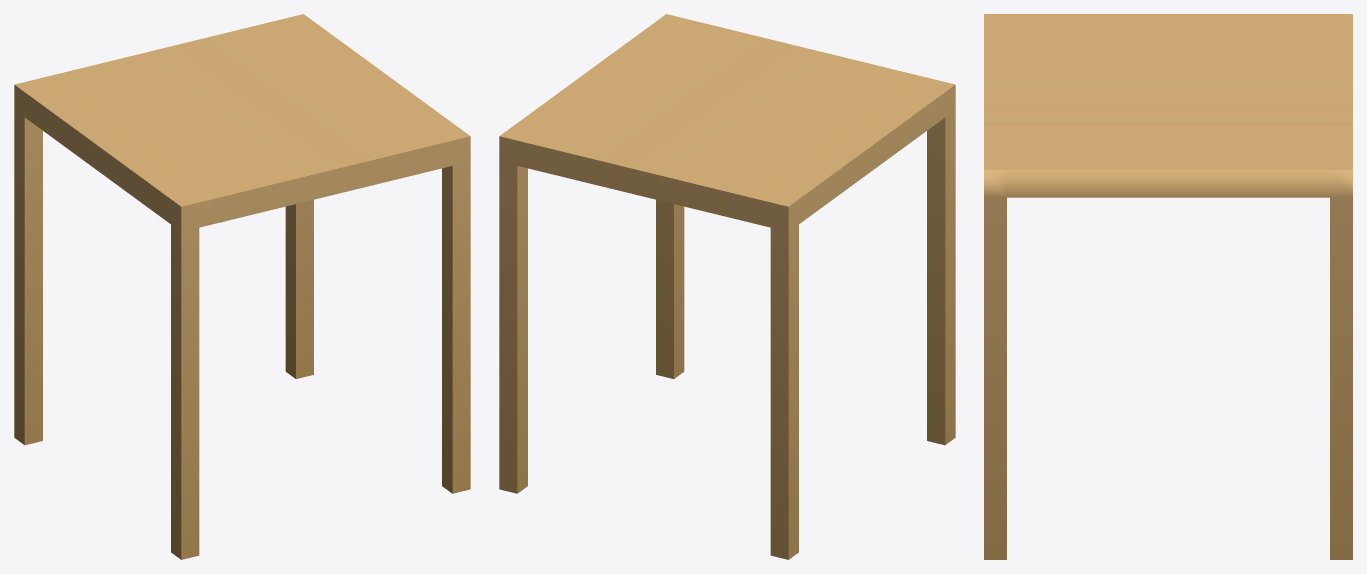
File: Table_1x1.fbx
3 views of the same model, side by side, from view 1: azimuth 30°, elevation 25°; view 2: azimuth 150°, elevation 25°; view 3: azimuth 270°, elevation 25° (orthographic). The views are drawn at different scales.
Visible parts, largest first — view 1: Table_1x1; view 2: Table_1x1; view 3: Table_1x1.
Boxes of the visible parts, x1,y1,x2,y2 form: Table_1x1: (14,14,470,559); Table_1x1: (499,14,955,559); Table_1x1: (984,14,1352,559).
Bounding box in the file's own units: 75 × 87.5 × 75.
